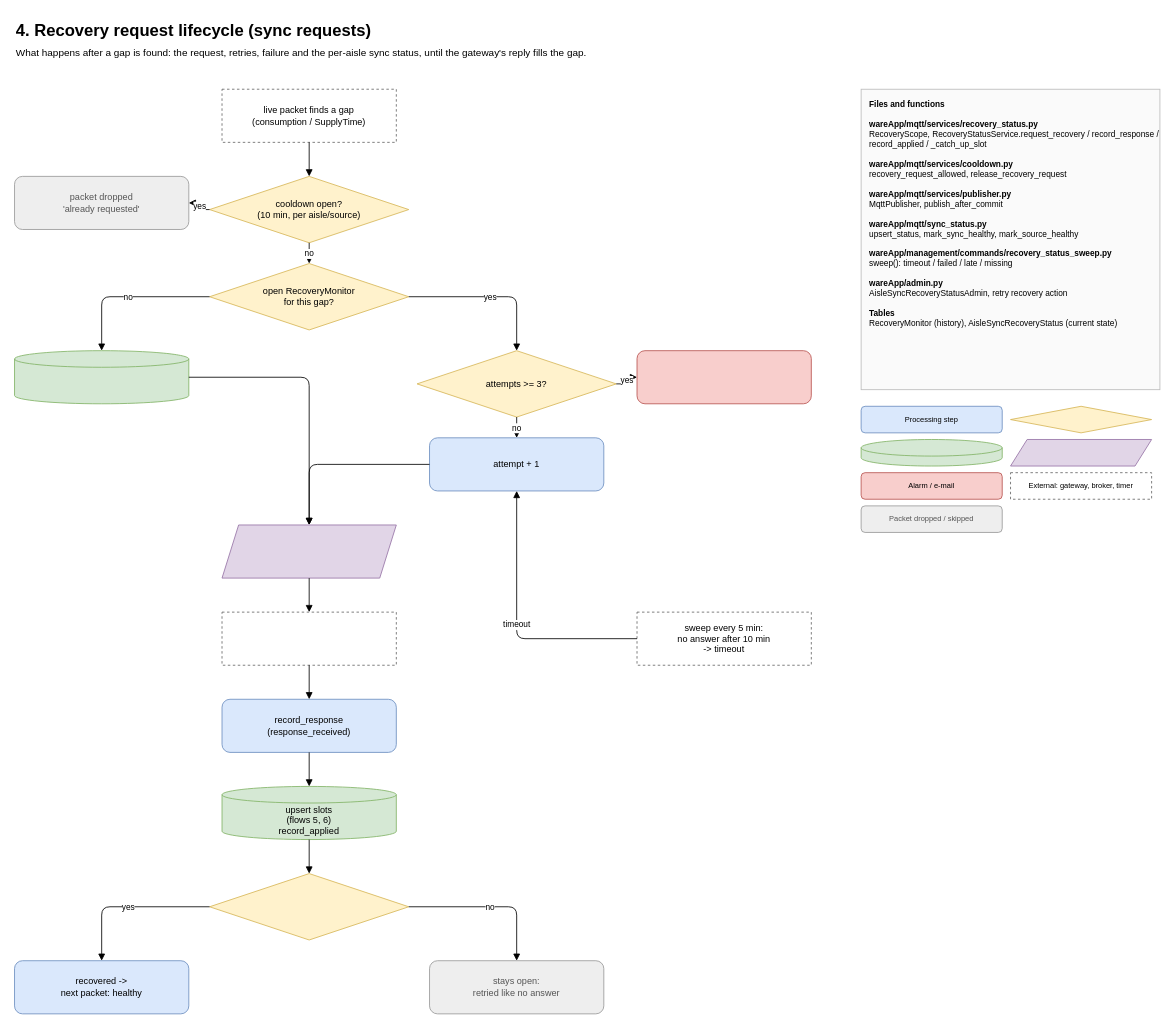
Some shapes in this 1174 by 1028 pixel diagram are drawn without their labels. Here are the shapes that lost their labels. From the top down, the centre of each, then its label:
the point at 101,377: create RecoveryMonitor missing_from..to attempt 1
the point at 723,377: status failed no more requests (new try after 6 h)
the point at 1081,419: Decision
the point at 931,452: Database table
the point at 1081,452: RabbitMQ queue / MQTT topic
the point at 308,551: publish sync request after commit sync_status = recovery_requested
the point at 308,638: gateway reply recovery/hourlyConsumption / dailyConsumption / loadRuntime
the point at 309,906: every missing hour present?
